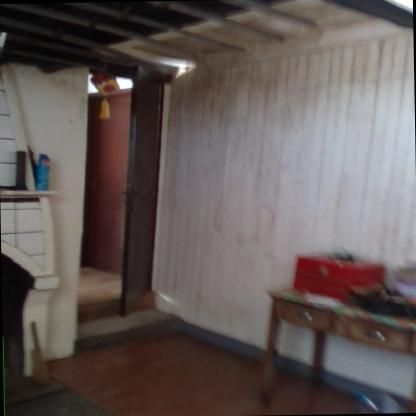semi: (74, 56, 174, 324)
